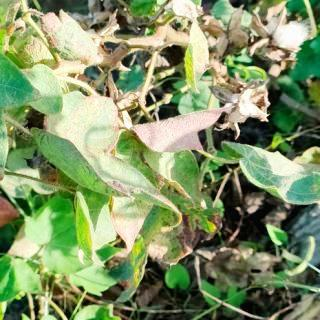leaf spot: (31, 52, 195, 238)
